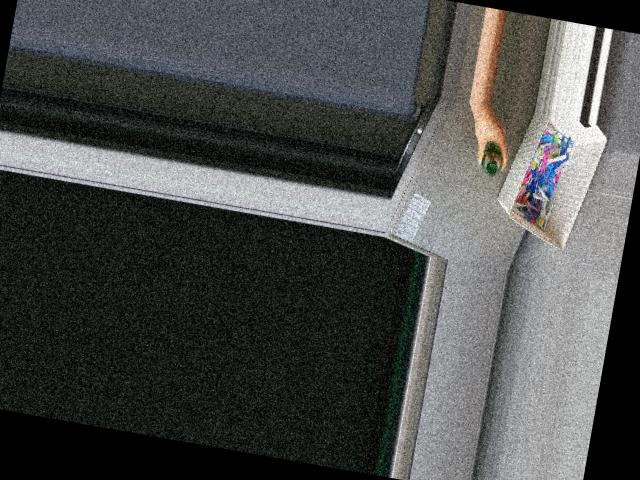beer: (479, 144, 504, 177)
